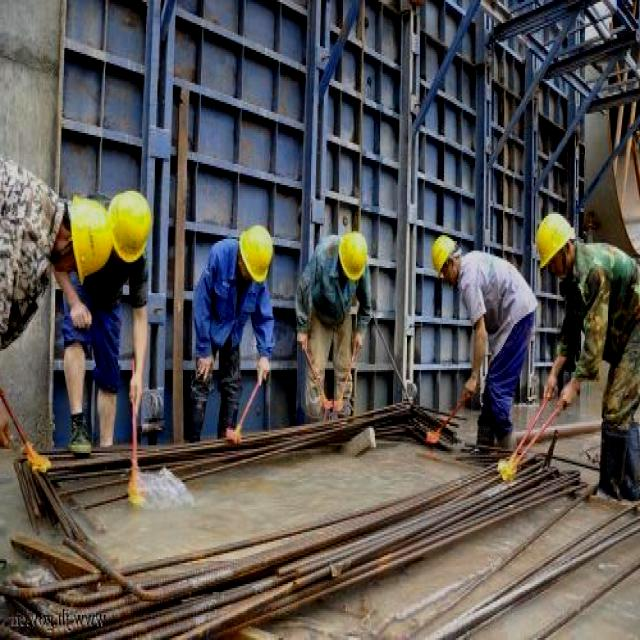hand_noglove: (64, 299, 103, 333), (557, 377, 581, 411), (126, 377, 148, 407), (540, 373, 562, 402), (460, 371, 481, 400), (292, 325, 315, 351), (254, 353, 274, 381), (196, 351, 217, 377), (349, 330, 370, 353)
head_helmet: (64, 192, 121, 281), (104, 188, 155, 266), (528, 210, 580, 271), (240, 221, 278, 283), (336, 229, 371, 279), (428, 232, 458, 281)
person: (41, 183, 162, 465), (528, 213, 640, 507), (178, 208, 290, 453), (435, 228, 542, 465), (284, 223, 381, 438)
shoes: (584, 423, 630, 507), (55, 407, 98, 457), (472, 412, 501, 459)
